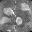people: (4, 6, 15, 16), (0, 17, 12, 25), (16, 17, 22, 26)
